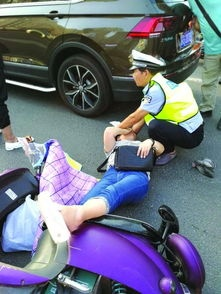falling: (31, 104, 165, 252)
